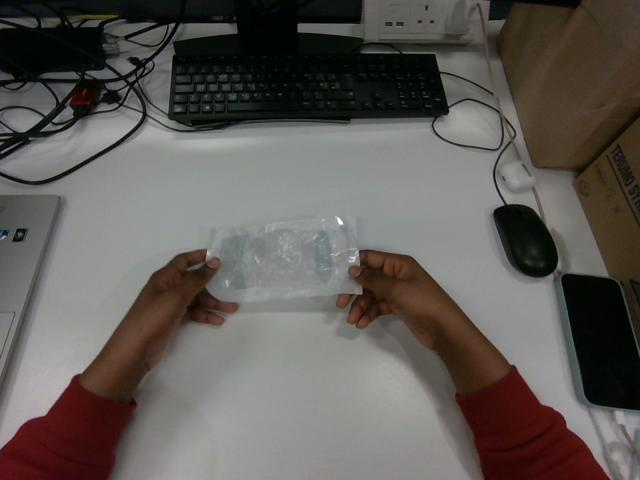gallipot: (207, 216, 361, 301)
